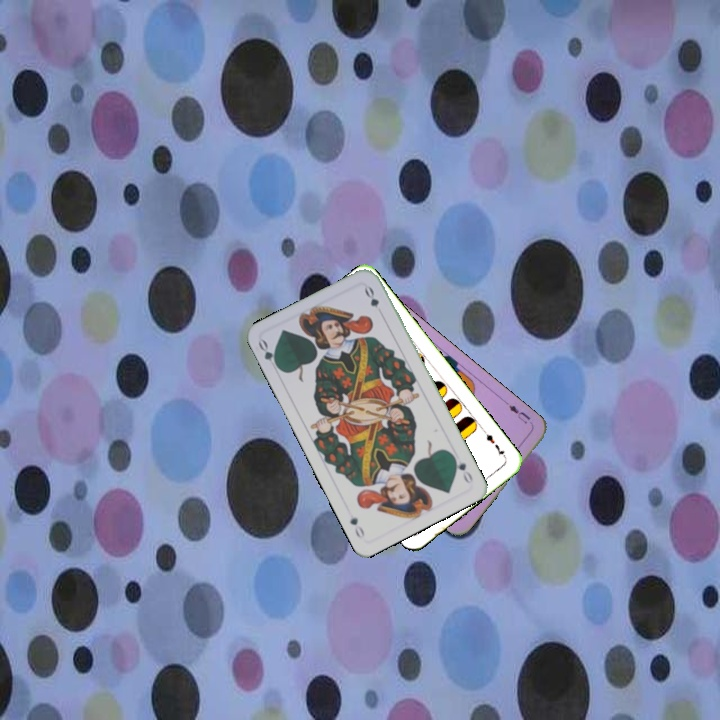E7: (479, 426, 509, 461)
EU: (505, 401, 533, 427)
GO: (254, 336, 283, 372), (448, 450, 475, 486)
